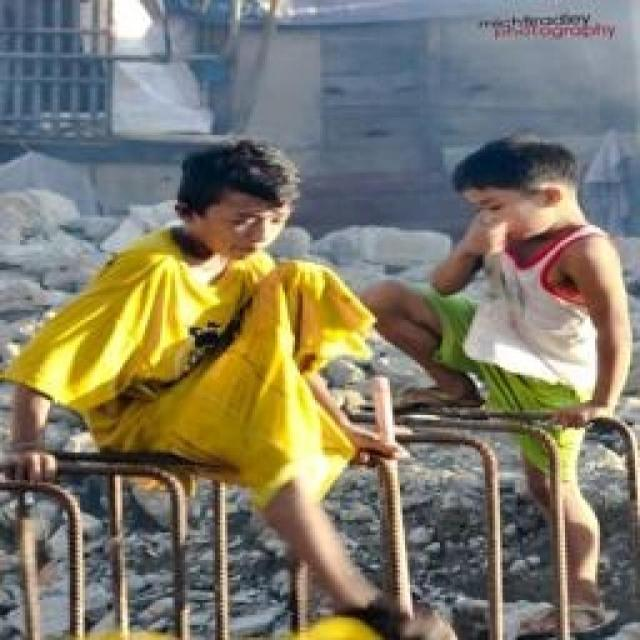Helmet: (105, 208, 277, 480), (447, 205, 615, 467), (166, 118, 314, 274), (434, 114, 578, 258)
